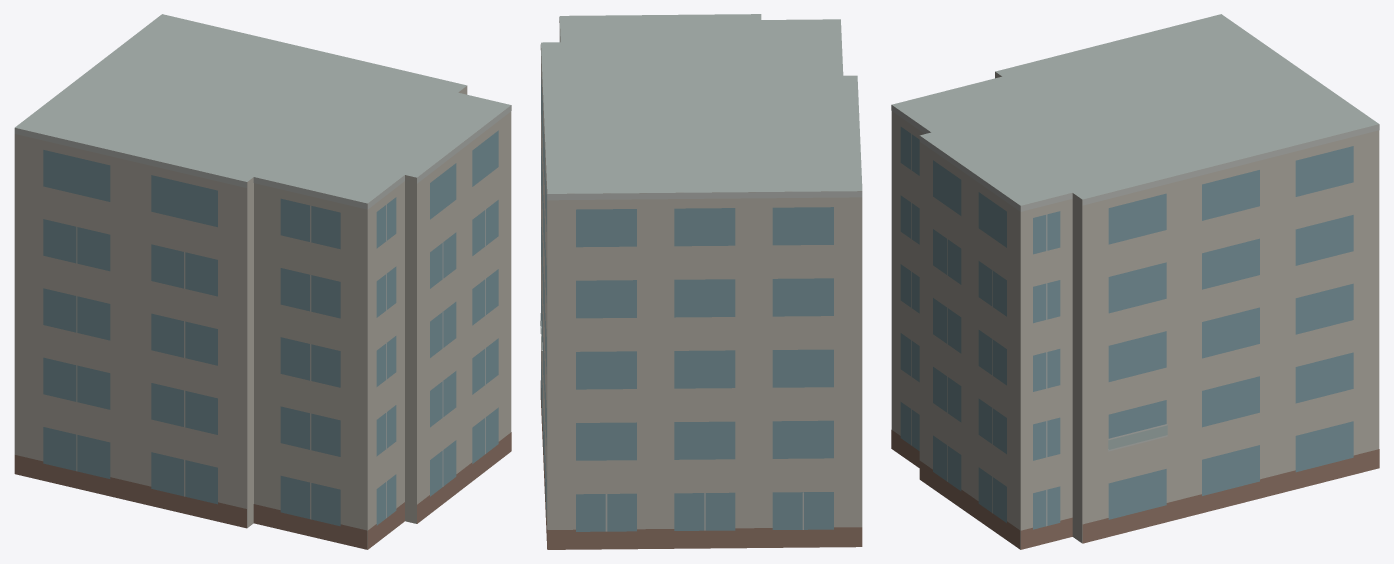
The model's file is survey-upis-32720509.glb.
The picture shows the model from 3 angles, left to right: view 1: azimuth 30°, elevation 25°; view 2: azimuth 150°, elevation 25°; view 3: azimuth 270°, elevation 25°; orthographic projection. The views are drawn at different scales.
Parts seen in each view (by area): view 1: survey-upis-32720509.tmp; view 2: survey-upis-32720509.tmp; view 3: survey-upis-32720509.tmp.
Part boxes in pixels (x1,y1,x2,y2): survey-upis-32720509.tmp: [14, 14, 511, 549]; survey-upis-32720509.tmp: [540, 14, 862, 549]; survey-upis-32720509.tmp: [891, 14, 1379, 549].
Bounding box in the file's own units: 16.51 × 13.8 × 17.75.
